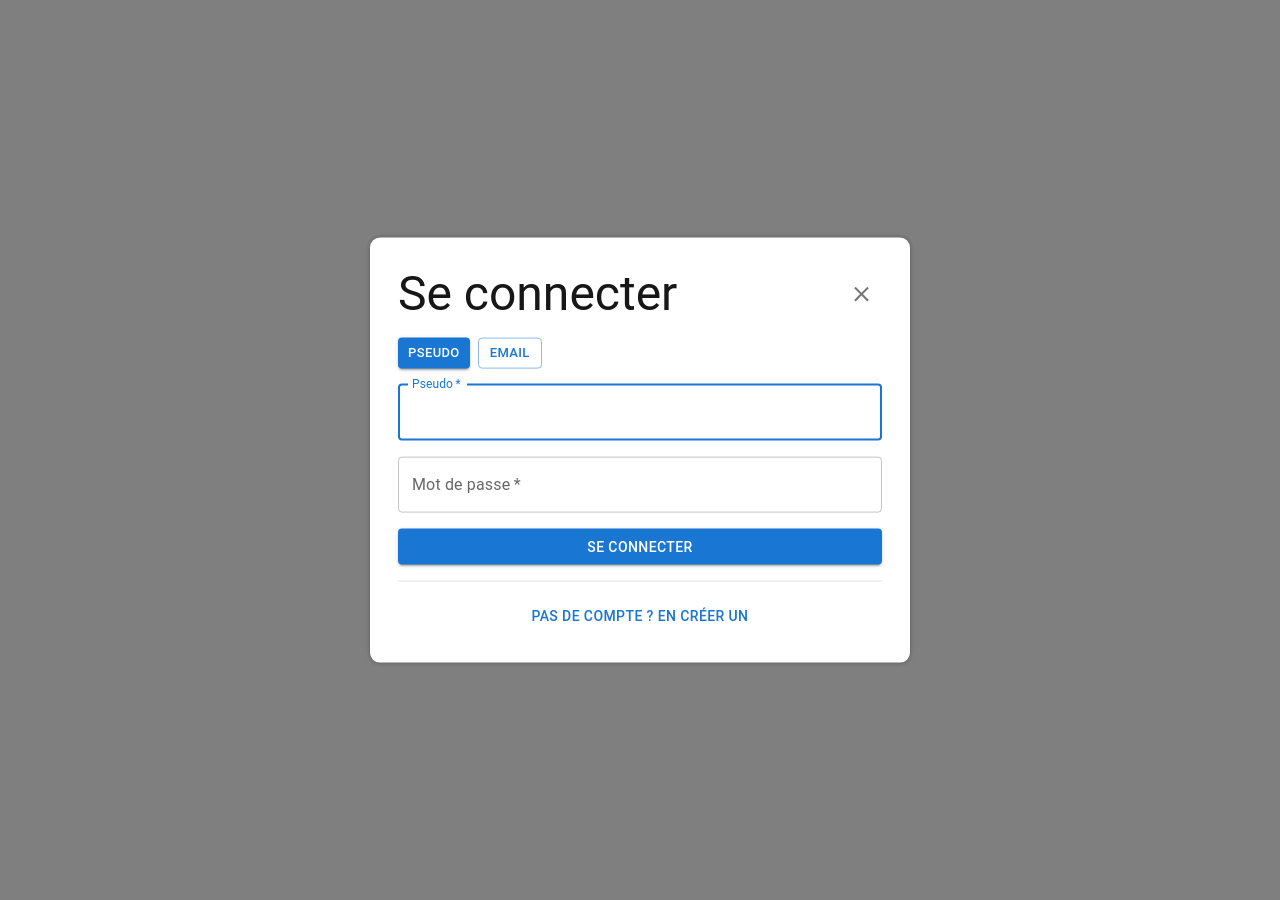
Scenario: AuthModal › connexion › n'affiche « Mot de passe oublié ? » qu'en mode email
Expected: the text "Mot de passe oublié ?" is not shown
Click the button "Email": [510, 353] box [478,338,542,368]
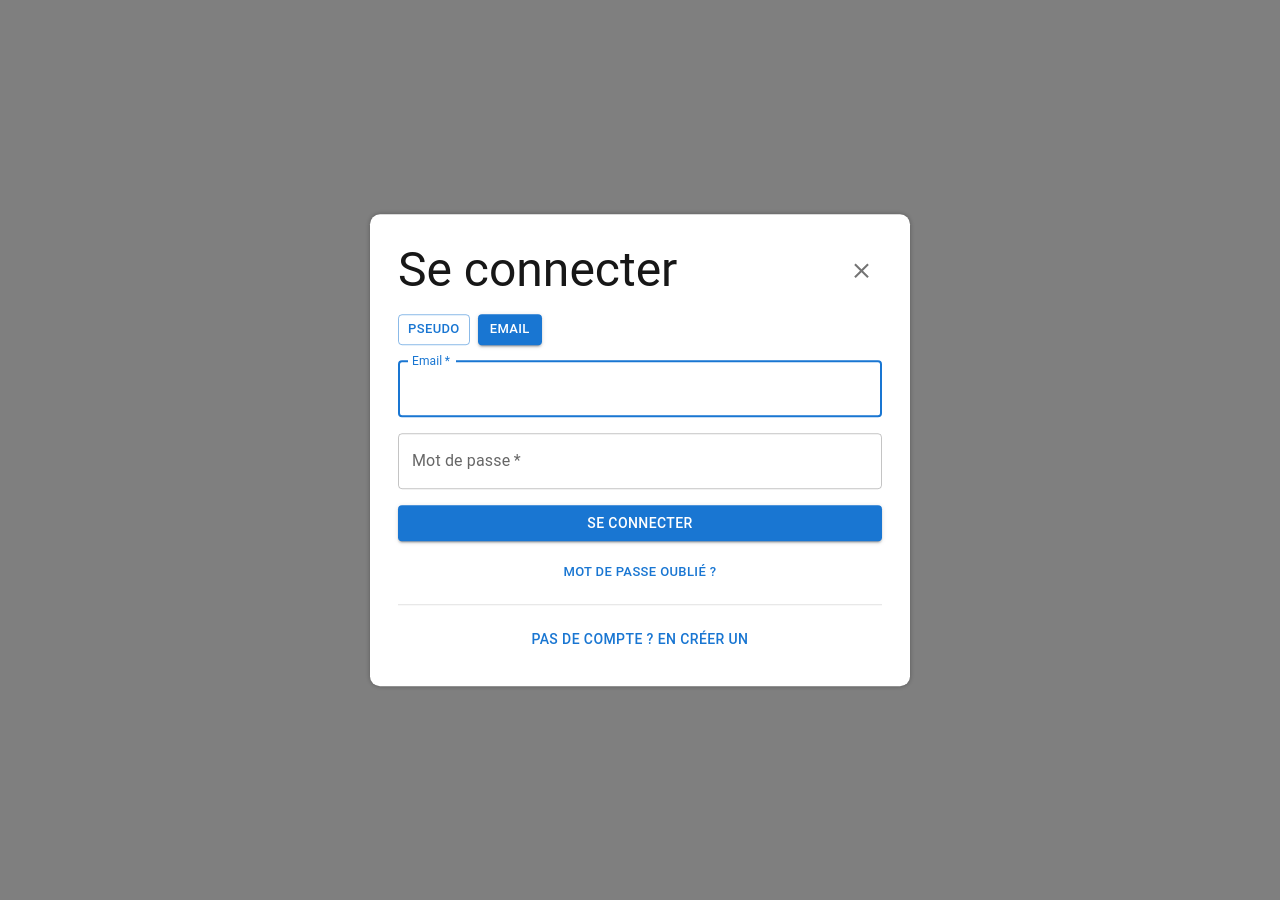
Now the button "Mot de passe oublié ?" is shown, box [398,558,882,588]
